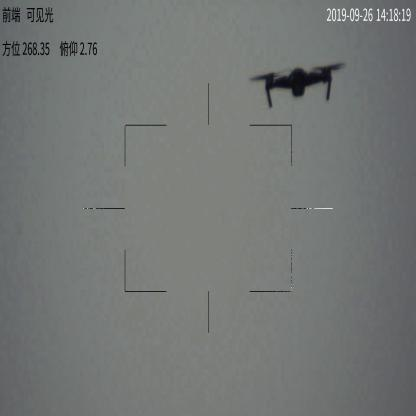uav: (247, 57, 350, 110)
